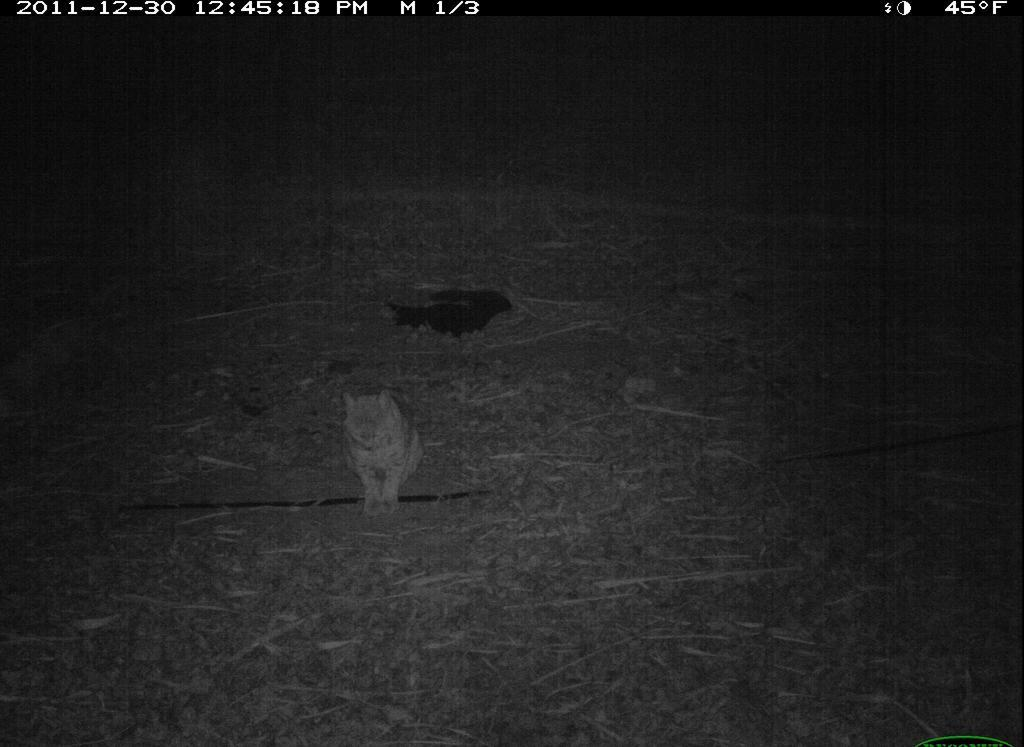bobcat: (335, 382, 433, 518)
